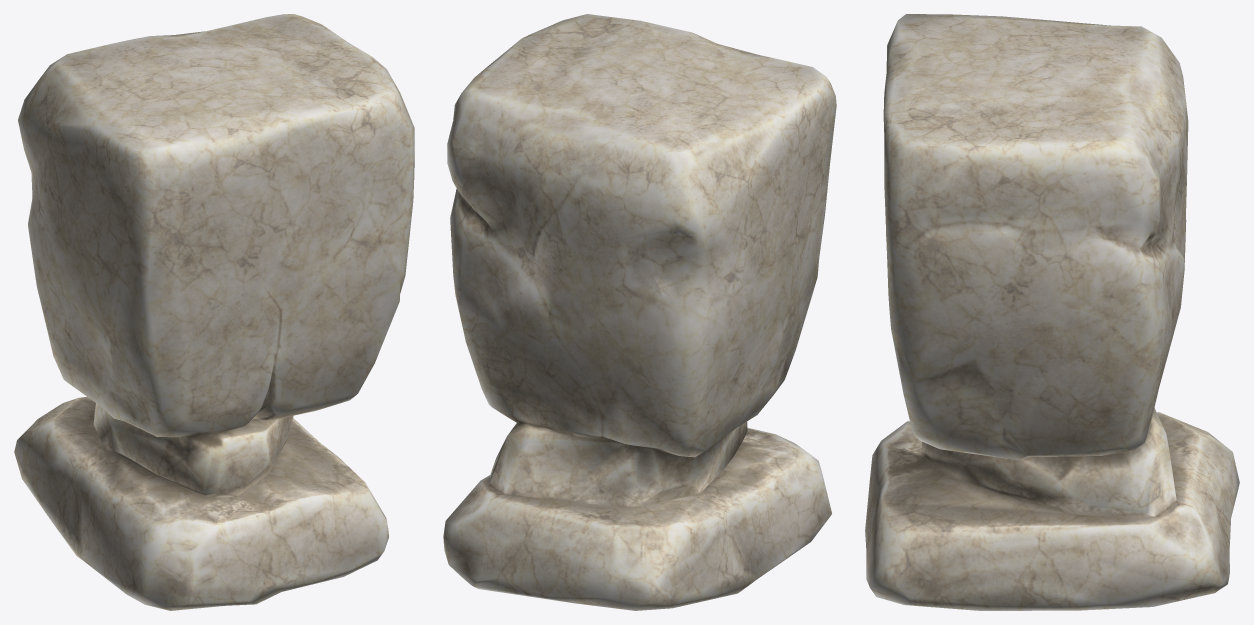
Rendered from SM_StoneNode_4.fbx.
3 renders of one model, left to right at view 1: azimuth 30°, elevation 25°; view 2: azimuth 150°, elevation 25°; view 3: azimuth 270°, elevation 25°, orthographic. The views are drawn at different scales.
Parts seen in each view (by area): view 1: SM_StoneNode_4; view 2: SM_StoneNode_4; view 3: SM_StoneNode_4.
Boxes of the visible parts, x1,y1,x2,y2 form: SM_StoneNode_4: [14, 14, 414, 610]; SM_StoneNode_4: [443, 14, 836, 610]; SM_StoneNode_4: [865, 14, 1239, 610].
Size of the model in its own units: 0.8606 by 1.34 by 0.9159.
